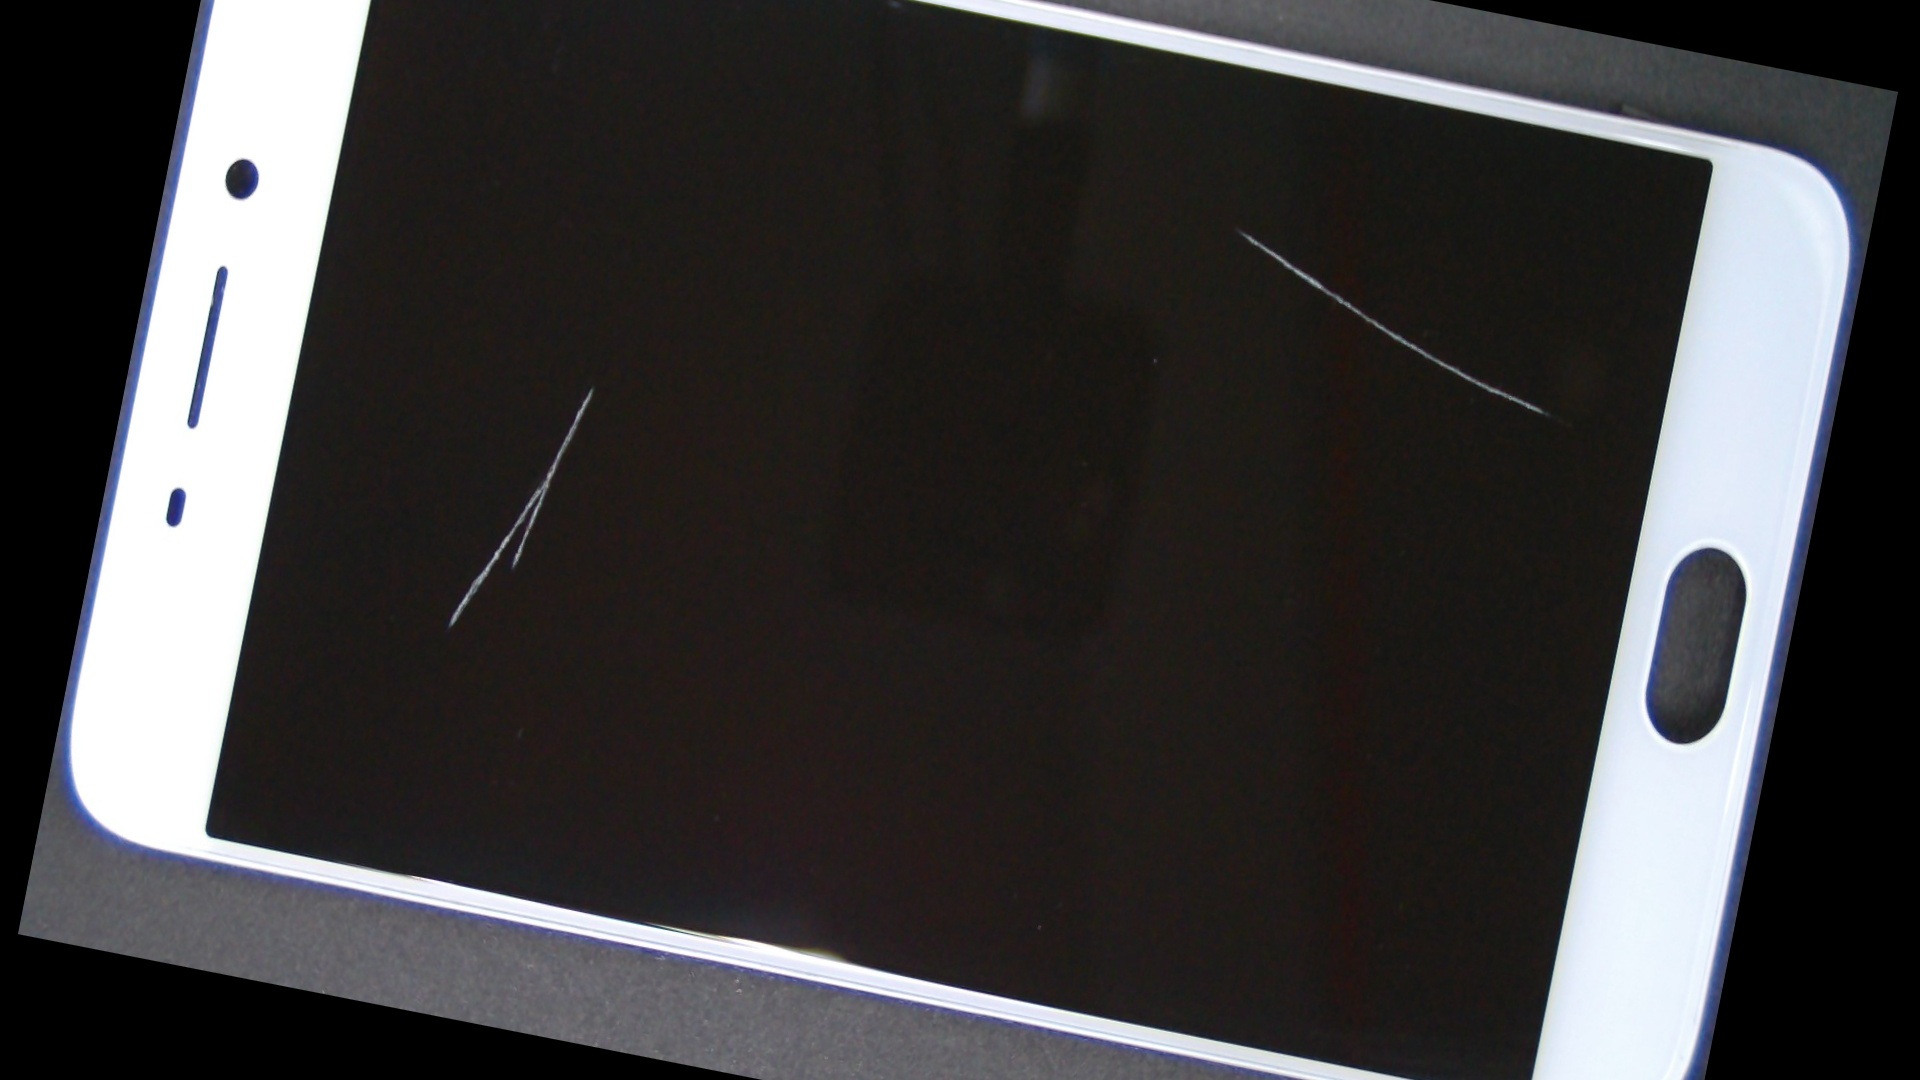oil: (694, 0, 1788, 462), (315, 76, 868, 698)
